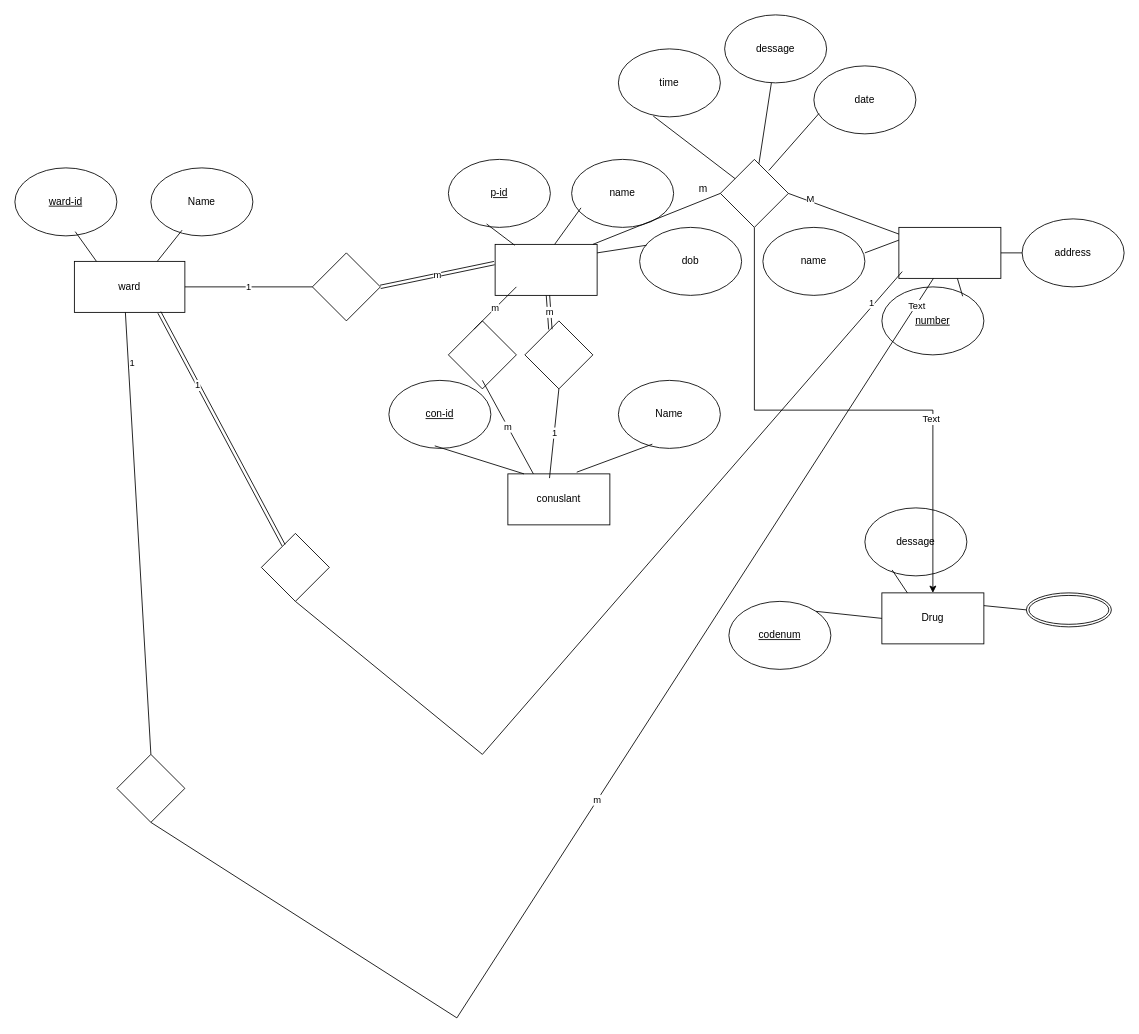
The diagram is 1139 pixels wide and 1034 high, and some of its shapes have lost their labels. Each missing label, with the centre of its shape:
"assign" goes at [558,354].
"brand" goes at [1068,609].
"exmine" goes at [482,354].
"gives" goes at [754,193].
"host" goes at [346,286].
"NUres" goes at [949,252].
"painent" goes at [545,269].
"super" goes at [295,567].
"surve" goes at [150,788].
